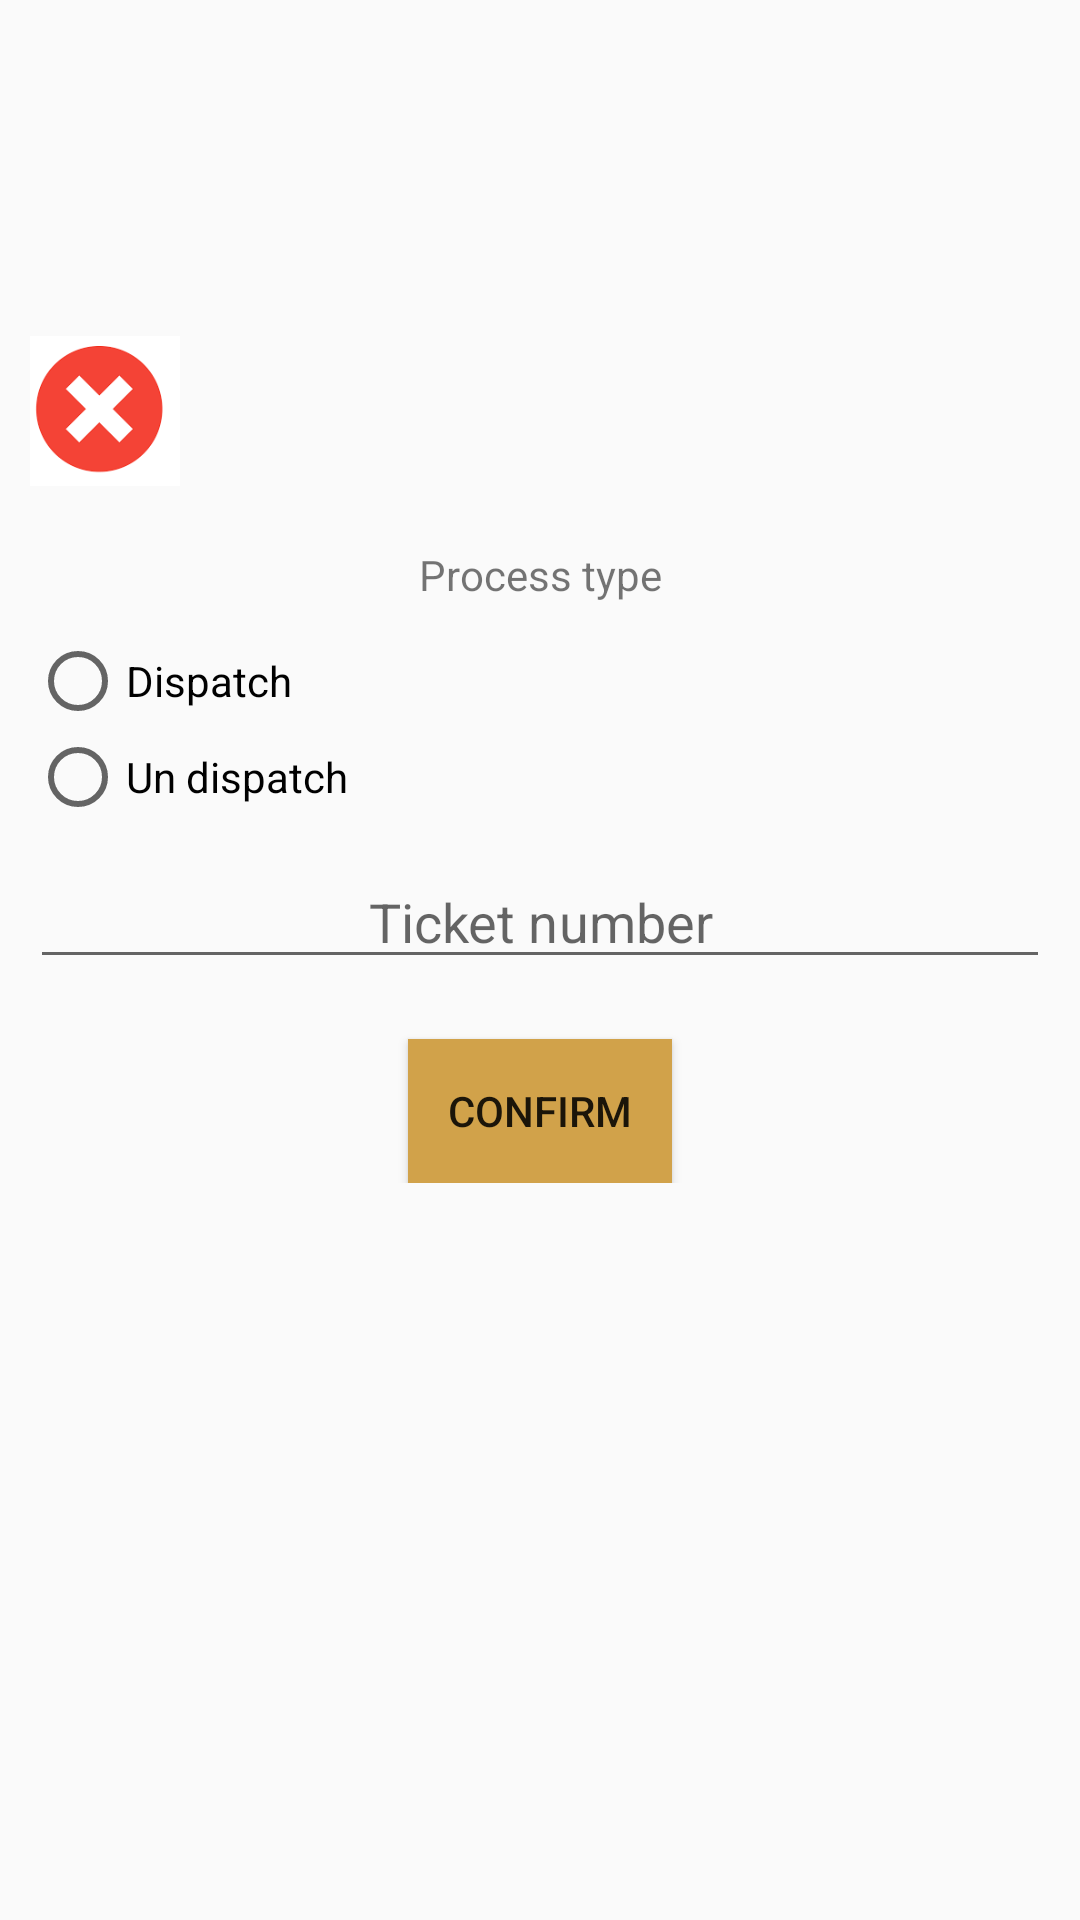

Icon bounding boxes for this 1080×1920 phone screenshot, format (x1, y1, x2, y2):
error: (36, 346, 163, 473)
